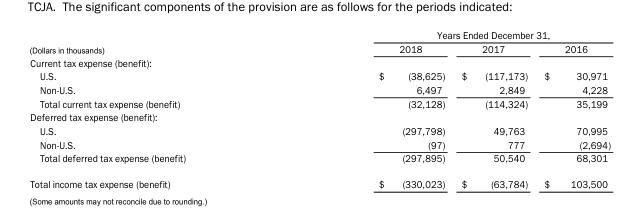table: (28, 28, 609, 189)
table column: (28, 28, 281, 189), (281, 28, 452, 189), (452, 28, 535, 189), (535, 28, 609, 189)
table column header: (28, 28, 609, 55)
table projected row header: (28, 55, 609, 69), (28, 109, 609, 123)
table row: (28, 151, 609, 170), (28, 170, 609, 189), (28, 41, 609, 55), (28, 55, 609, 69), (28, 82, 609, 96), (28, 109, 609, 123), (28, 123, 609, 137), (28, 137, 609, 151), (28, 28, 609, 41), (28, 69, 609, 82), (28, 96, 609, 109)
table spanning cell: (28, 28, 281, 55), (281, 28, 609, 41)
